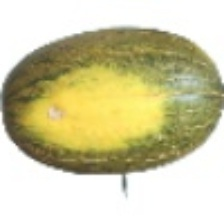honeydew: (34, 4, 201, 185)
